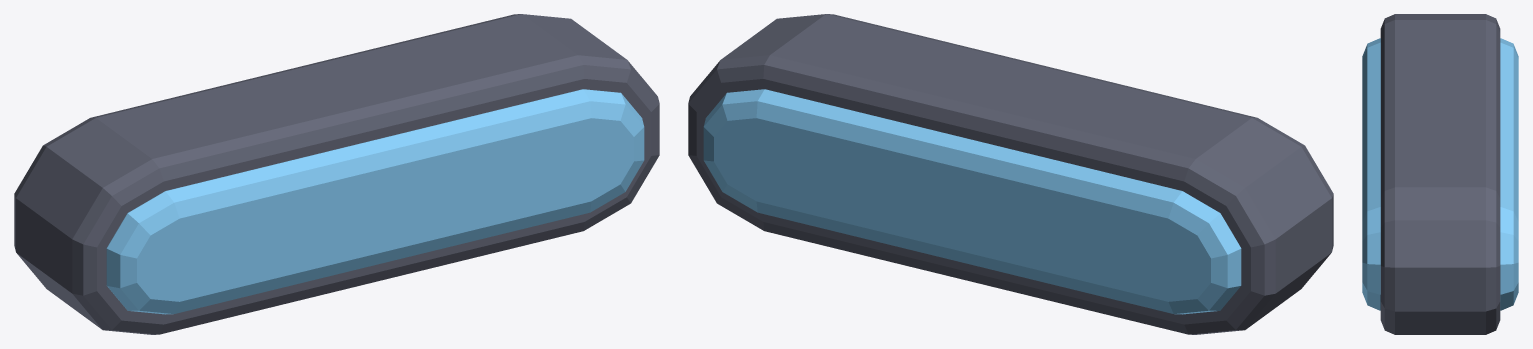
Rendered from game-ui-icon-library-minus-mark-1f79e3b8__19054.glb.
3 views of the same model, side by side, from view 1: azimuth 30°, elevation 25°; view 2: azimuth 150°, elevation 25°; view 3: azimuth 270°, elevation 25° (orthographic). The views are drawn at different scales.
Visible parts, largest first — view 1: minus-mark; view 2: minus-mark; view 3: minus-mark.
Part boxes in pixels (left/top/right/bottom): minus-mark: left=14, top=14, right=659, bottom=334; minus-mark: left=688, top=14, right=1333, bottom=334; minus-mark: left=1362, top=14, right=1518, bottom=334.
Size of the model in its own units: 0.98 by 0.2813 by 0.2812.
